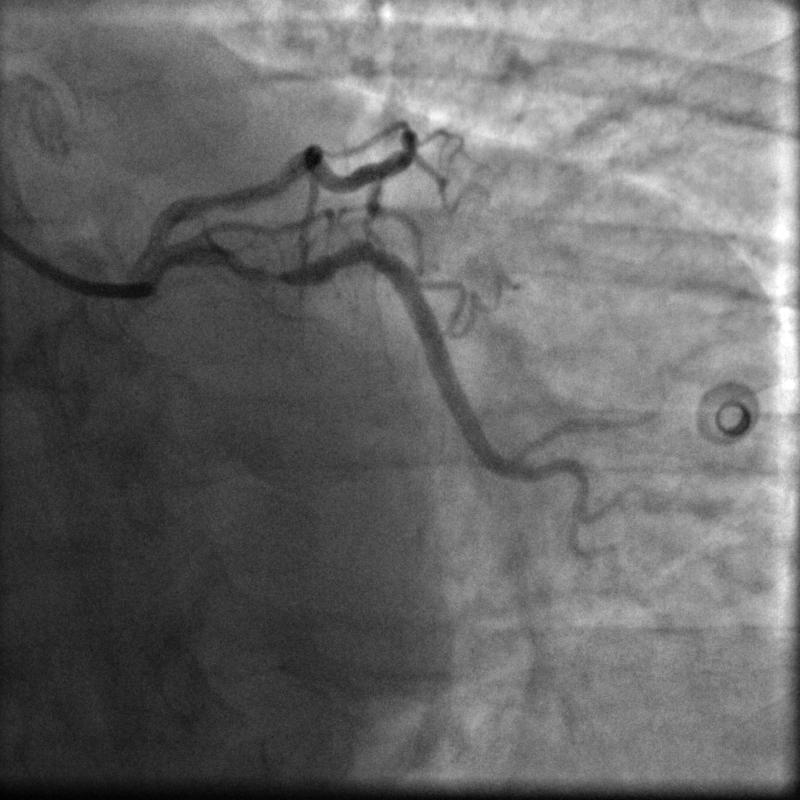Stenosis: (244, 260, 306, 287)
